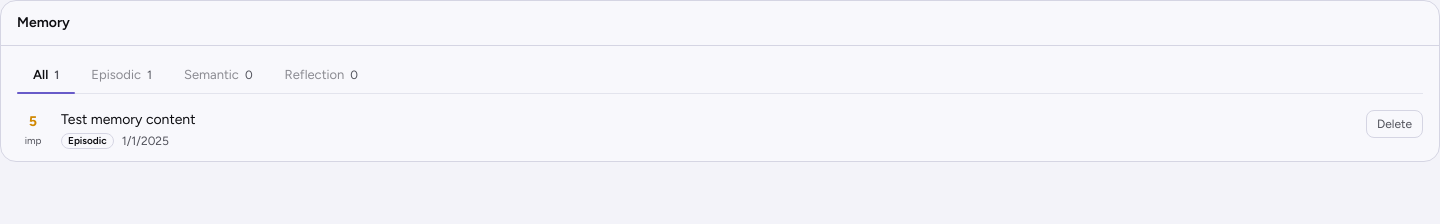
AgentMemoryBrowser › shows empty filter message when no memories match active tab
Click the tab "Semantic0": (218,75) [168,58,269,93]
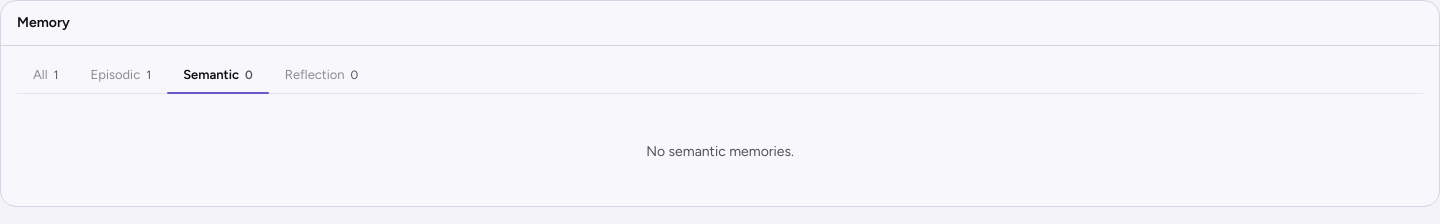
Expected: the text "No semantic memories." is shown, [646,143,794,160]
